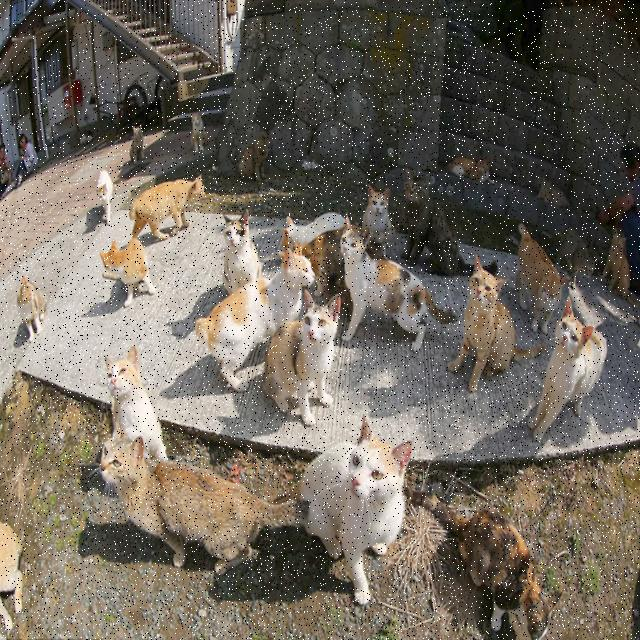cat: (100, 425, 298, 573), (276, 415, 411, 605), (412, 492, 561, 638), (196, 248, 315, 391), (341, 218, 456, 352), (448, 255, 545, 392), (528, 297, 606, 442), (265, 290, 341, 425), (402, 173, 472, 277), (106, 345, 168, 462), (516, 223, 568, 333), (129, 175, 205, 240), (100, 238, 156, 307), (222, 210, 261, 293), (301, 228, 344, 296), (601, 228, 630, 298), (286, 212, 345, 244), (18, 277, 46, 341), (362, 185, 391, 232), (96, 170, 114, 225), (448, 157, 489, 181), (538, 180, 570, 208), (191, 112, 208, 152), (129, 125, 144, 163), (0, 598, 12, 632)
